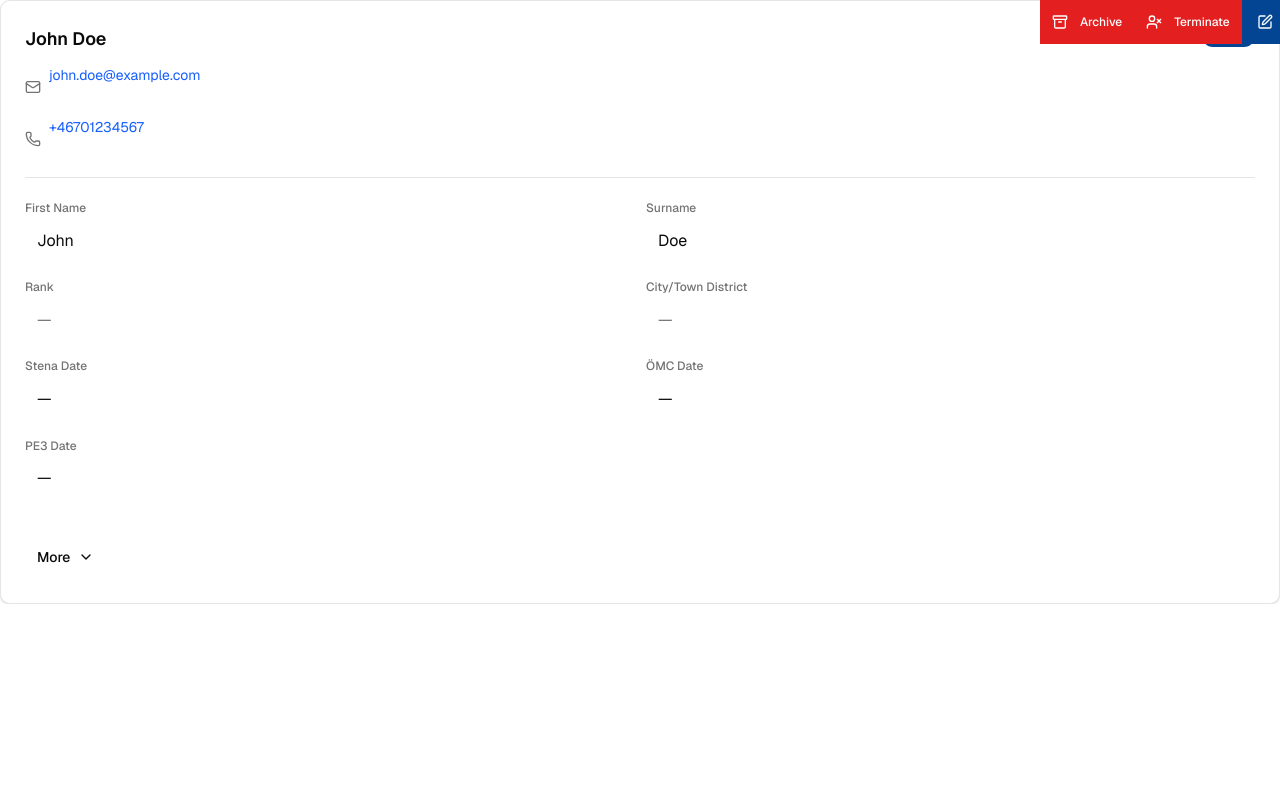
Mobile Quick Actions Integration (Story 12.6) › Long-press Context Menu Workflow › should execute action and close menu when menu item is clicked
# Trigger long-press
Press the mouse on the text "John Doe" at x=640, y=302, box [0,0,1279,604]
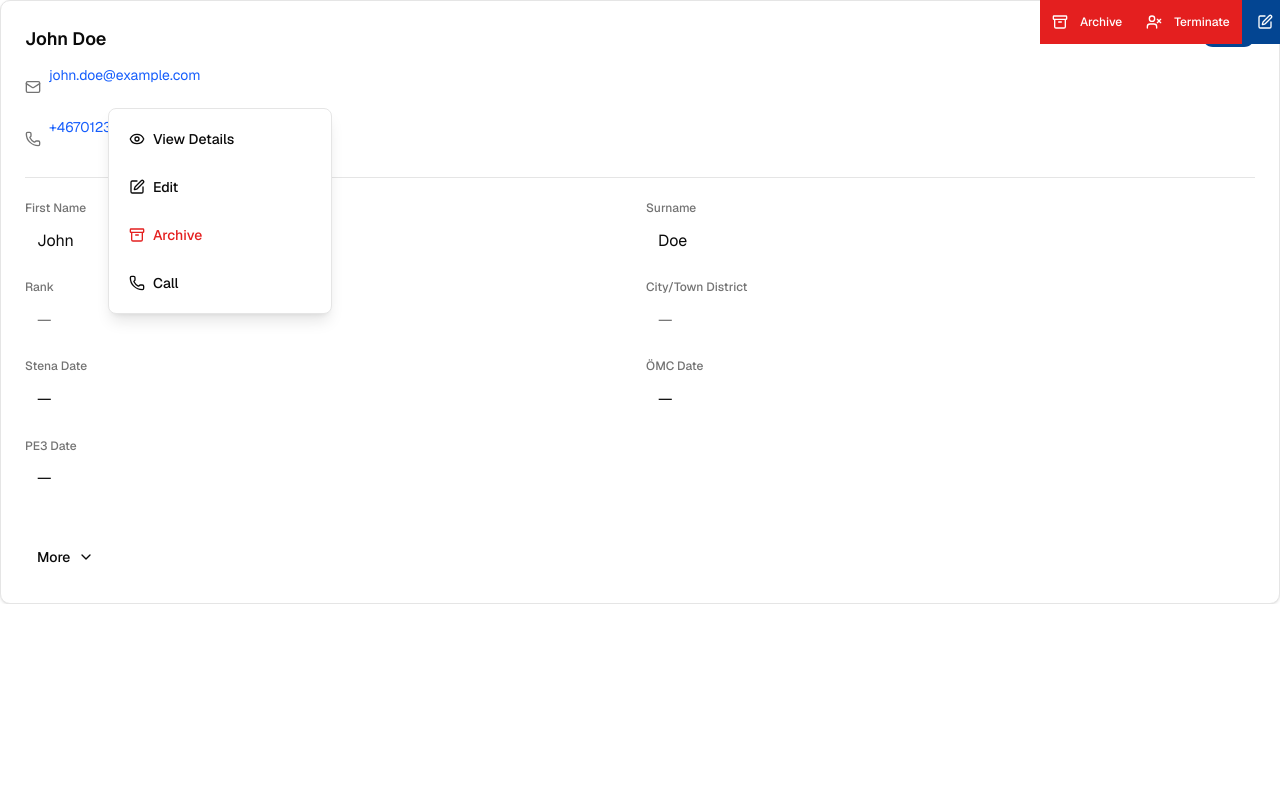
Check: the menu "View Details" is shown, box [117,117,323,161]
Check: the button "Edit" is shown
# Click Edit button in context menu
Click the button "Edit" at x=220, y=187, box [117,165,323,209]
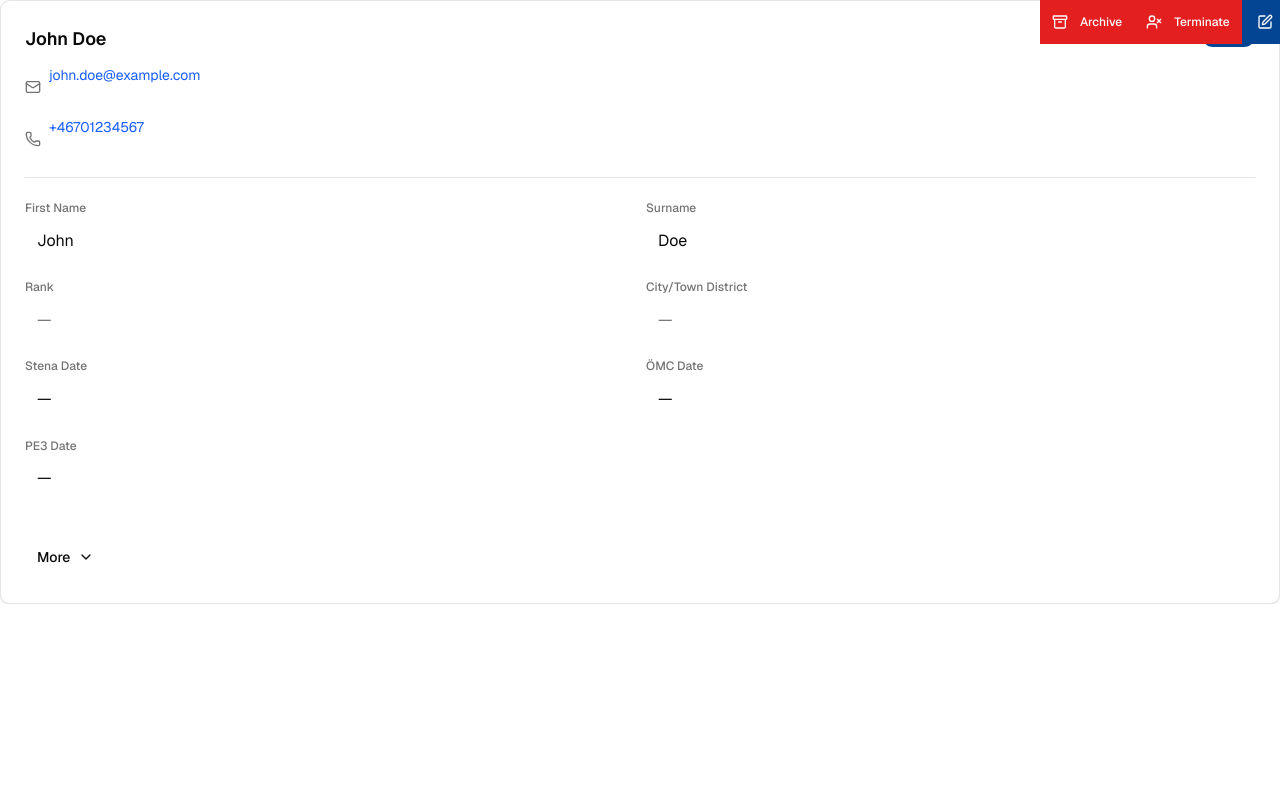
Check: the button "View Details" is gone
